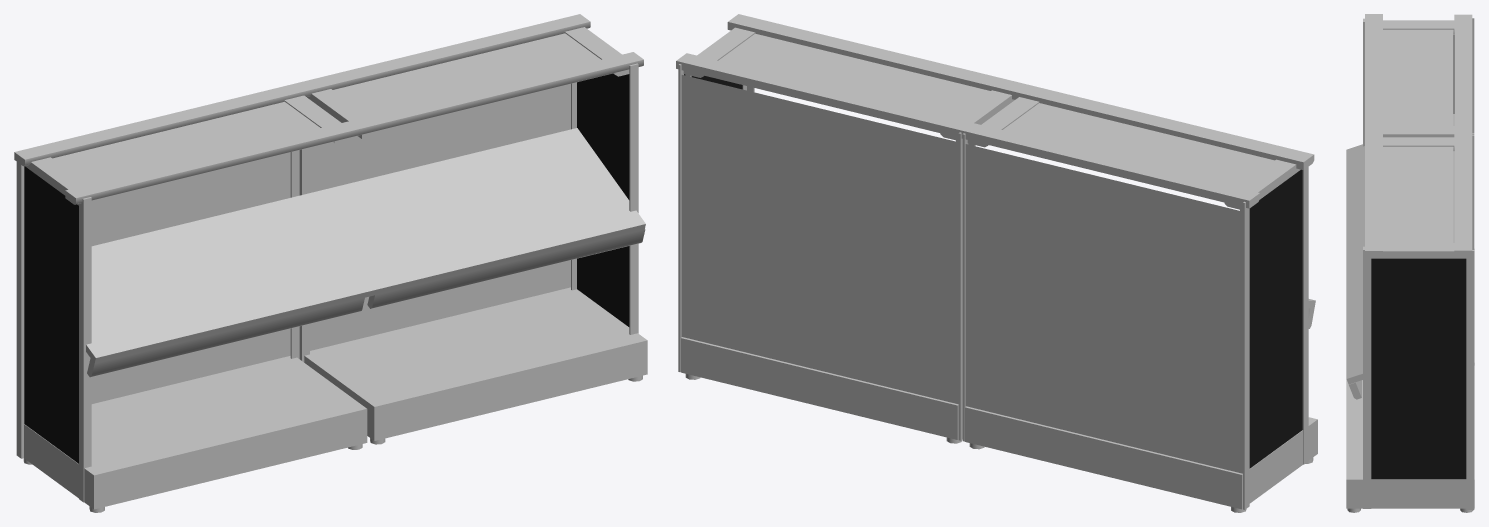
Rendered from SM_Shelving8.fbx.
3 views of the same model, side by side, from view 1: azimuth 30°, elevation 25°; view 2: azimuth 150°, elevation 25°; view 3: azimuth 270°, elevation 25° (orthographic). The views are drawn at different scales.
Visible parts, largest first — view 1: SM_Shelving8_LOD0; view 2: SM_Shelving8_LOD0; view 3: SM_Shelving8_LOD0.
Boxes of the visible parts, <box> form: SM_Shelving8_LOD0: <box>14,14,647,512</box>; SM_Shelving8_LOD0: <box>676,14,1317,512</box>; SM_Shelving8_LOD0: <box>1346,14,1474,512</box>.
Bounding box in the file's own units: 210 × 47.93 × 110.
